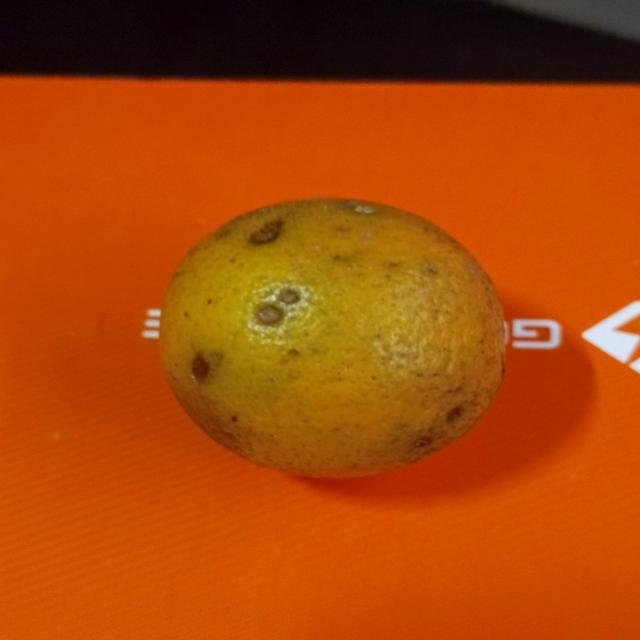black spot: (153, 197, 510, 474)
